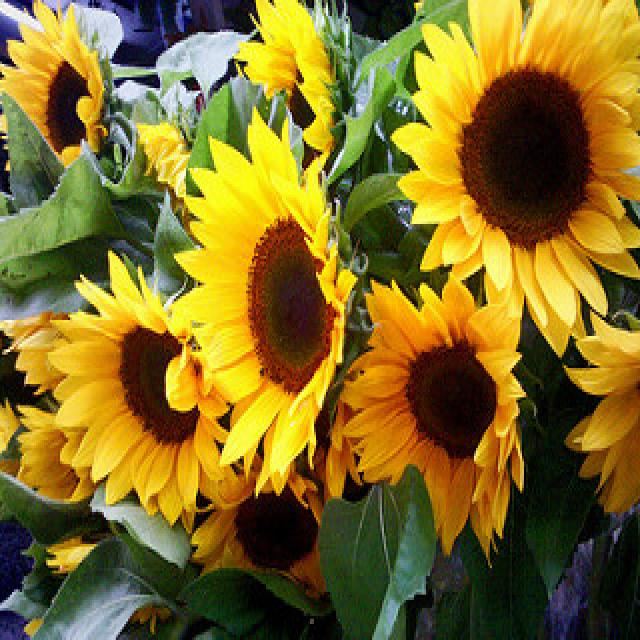sunflower: (378, 5, 640, 358), (158, 114, 348, 482), (339, 260, 533, 545), (40, 251, 230, 520), (0, 3, 122, 208), (237, 0, 341, 171)
